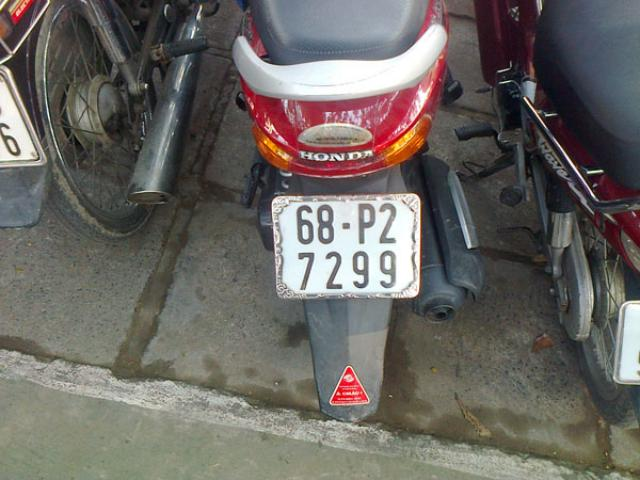plate: (276, 200, 424, 298)
